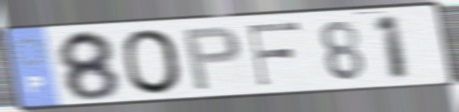1: (372, 12, 415, 82)
8: (53, 28, 125, 103), (318, 19, 367, 82)
F: (246, 20, 304, 89)
O: (119, 27, 187, 96)
P: (180, 24, 244, 93)
